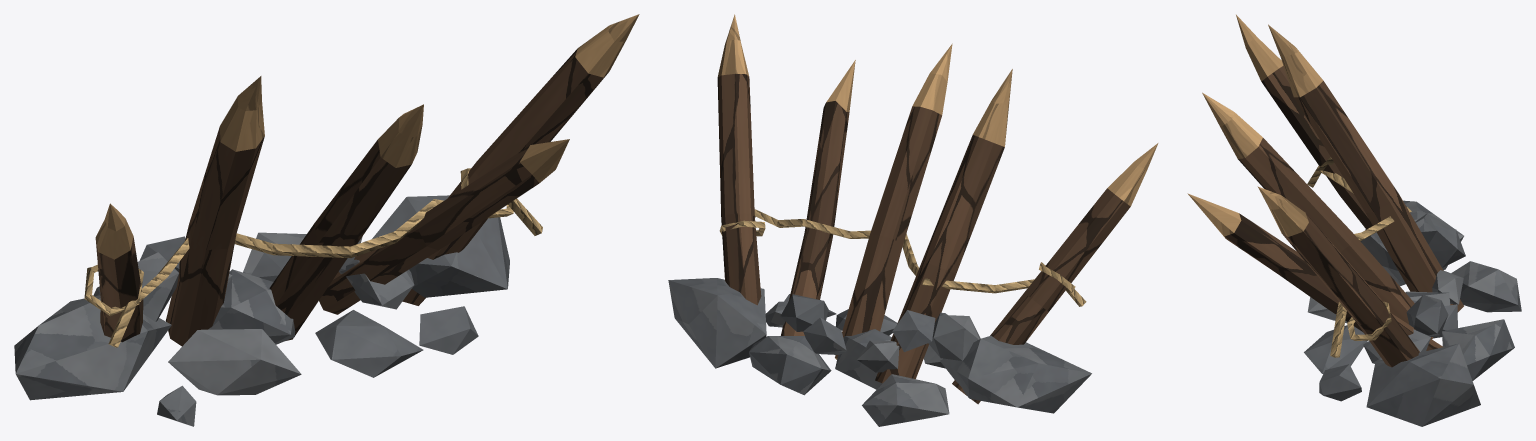
The model's file is SM_DefensiveStakes.fbx.
3 renders of one model, left to right at view 1: azimuth 30°, elevation 25°; view 2: azimuth 150°, elevation 25°; view 3: azimuth 270°, elevation 25°, orthographic. The views are drawn at different scales.
Parts seen in each view (by area): view 1: SM_DefensiveStakes; view 2: SM_DefensiveStakes; view 3: SM_DefensiveStakes.
Part boxes in pixels (box(x1,y1,x2,y2)): SM_DefensiveStakes: box(14, 14, 639, 426); SM_DefensiveStakes: box(668, 14, 1158, 426); SM_DefensiveStakes: box(1187, 14, 1521, 426).
Size of the model in its own units: 1.63 by 1.02 by 1.1.
